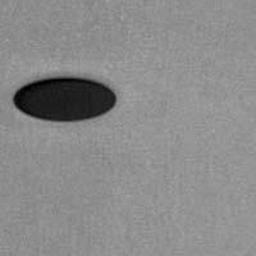Punching: (12, 77, 116, 123)
